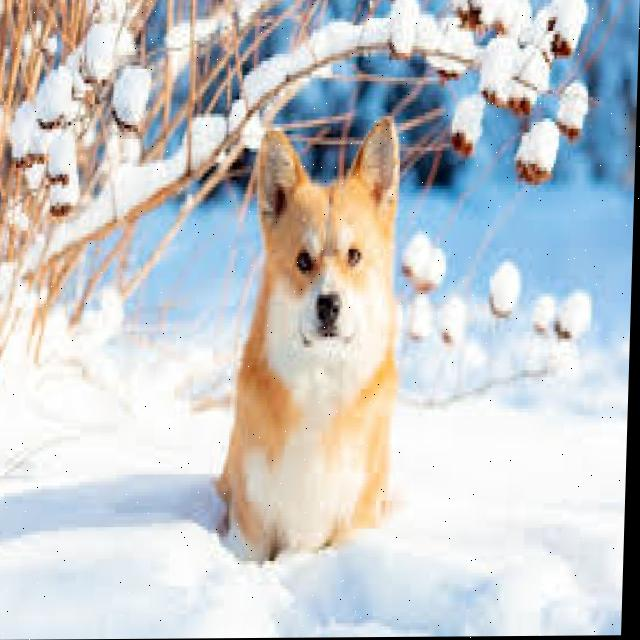CORGI: (203, 87, 424, 561)
